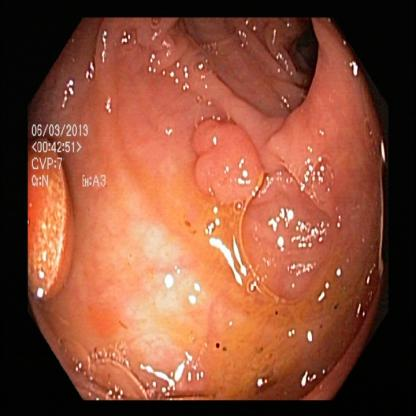Labels: (28, 121, 119, 198)
Polyps: (249, 185, 333, 292), (186, 113, 260, 200)
